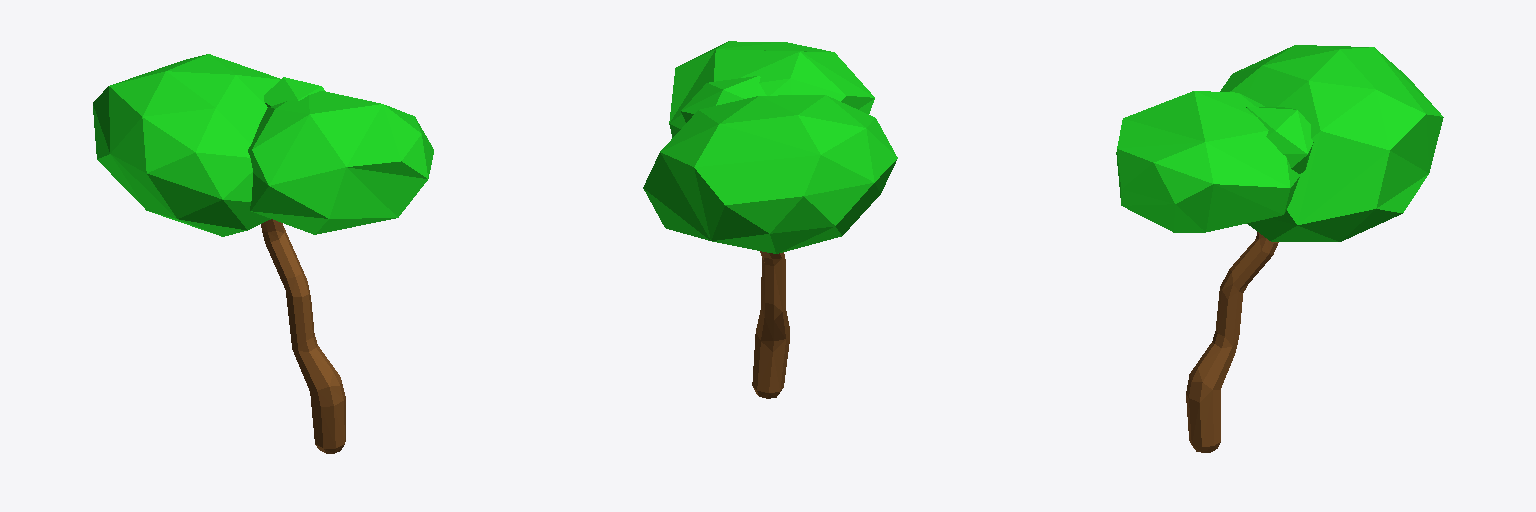
3 views of the same model, side by side, from view 1: azimuth 30°, elevation 25°; view 2: azimuth 150°, elevation 25°; view 3: azimuth 270°, elevation 25° (orthographic).
Parts seen in each view (by area): view 1: Icosphere.001, Icosphere, Cube, Icosphere.002; view 2: Icosphere.001, Icosphere, Cube, Icosphere.002; view 3: Icosphere.001, Icosphere, Cube, Icosphere.002.
Part boxes in pixels (left/top/right/bottom): Icosphere.001: left=93, top=54, right=280, bottom=236; Icosphere: left=248, top=91, right=433, bottom=234; Cube: left=261, top=219, right=345, bottom=453; Icosphere.002: left=264, top=77, right=324, bottom=106; Icosphere.001: left=643, top=95, right=897, bottom=253; Icosphere: left=669, top=41, right=874, bottom=137; Cube: left=752, top=251, right=789, bottom=398; Icosphere.002: left=681, top=76, right=766, bottom=122; Icosphere.001: left=1220, top=45, right=1443, bottom=241; Icosphere: left=1116, top=91, right=1299, bottom=232; Cube: left=1186, top=232, right=1278, bottom=452; Icosphere.002: left=1246, top=107, right=1313, bottom=173.
Bounding box in the file's own units: 3.64 × 4.9 × 4.09.
2 materials, 2 textured.